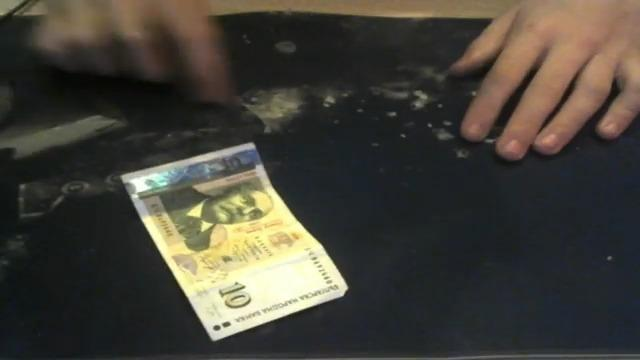10leva: (158, 182, 273, 253), (206, 270, 262, 317)
